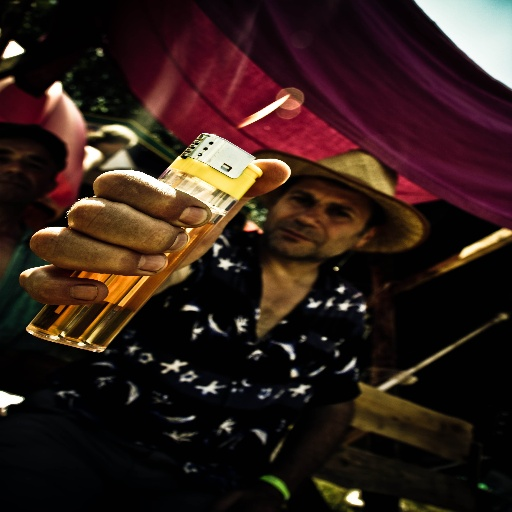hand: (20, 181, 183, 311), (214, 480, 288, 511)
